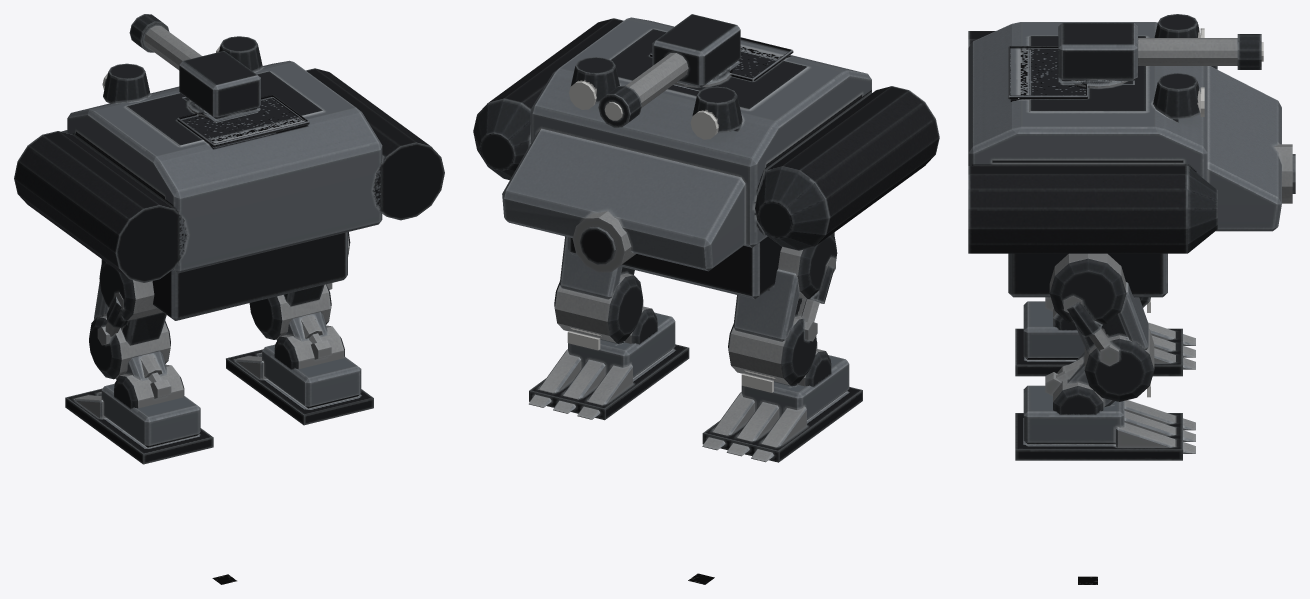
The model's file is chs_newt.fbx.
The picture shows the model from 3 angles, left to right: view 1: azimuth 30°, elevation 25°; view 2: azimuth 150°, elevation 25°; view 3: azimuth 270°, elevation 25°; orthographic projection. The views are drawn at different scales.
Visible parts, largest first — view 1: torso_bar, base_bar, footL_bar, footR_bar, thighL_bar, shinL_bar, shinR_bar, thighR_bar; view 2: torso_bar, thighL_bar, footL_bar, footR_bar, thighR_bar, base_bar, torso_glow_head_bar, shinL_bar, shinR_bar; view 3: torso_bar, thighR_bar, footR_bar, footL_bar, base_bar, shinR_bar.
Part boxes in pixels (x1=…): torso_bar: x1=14, y1=14, x2=444, y2=282; base_bar: x1=101, y1=232, x2=347, y2=320; footL_bar: x1=65, y1=383, x2=213, y2=464; footR_bar: x1=226, y1=344, x2=373, y2=425; thighL_bar: x1=89, y1=259, x2=170, y2=379; shinL_bar: x1=114, y1=351, x2=184, y2=408; shinR_bar: x1=274, y1=312, x2=344, y2=369; thighR_bar: x1=249, y1=232, x2=350, y2=339; torso_bar: x1=473, y1=14, x2=939, y2=272; thighL_bar: x1=728, y1=233, x2=837, y2=385; footL_bar: x1=702, y1=355, x2=862, y2=462; footR_bar: x1=529, y1=312, x2=689, y2=420; thighR_bar: x1=554, y1=236, x2=643, y2=342; base_bar: x1=568, y1=232, x2=834, y2=299; torso_glow_head_bar: x1=569, y1=81, x2=718, y2=139; shinL_bar: x1=774, y1=342, x2=831, y2=386; shinR_bar: x1=600, y1=303, x2=657, y2=344; torso_bar: x1=968, y1=14, x2=1295, y2=253; thighR_bar: x1=1049, y1=253, x2=1154, y2=401; footR_bar: x1=1015, y1=385, x2=1195, y2=460; footL_bar: x1=1015, y1=301, x2=1195, y2=376; base_bar: x1=1008, y1=253, x2=1167, y2=297; shinR_bar: x1=1045, y1=351, x2=1114, y2=414.
Size of the model in its own units: 410 by 605 by 328.
2 materials, 2 textured.
